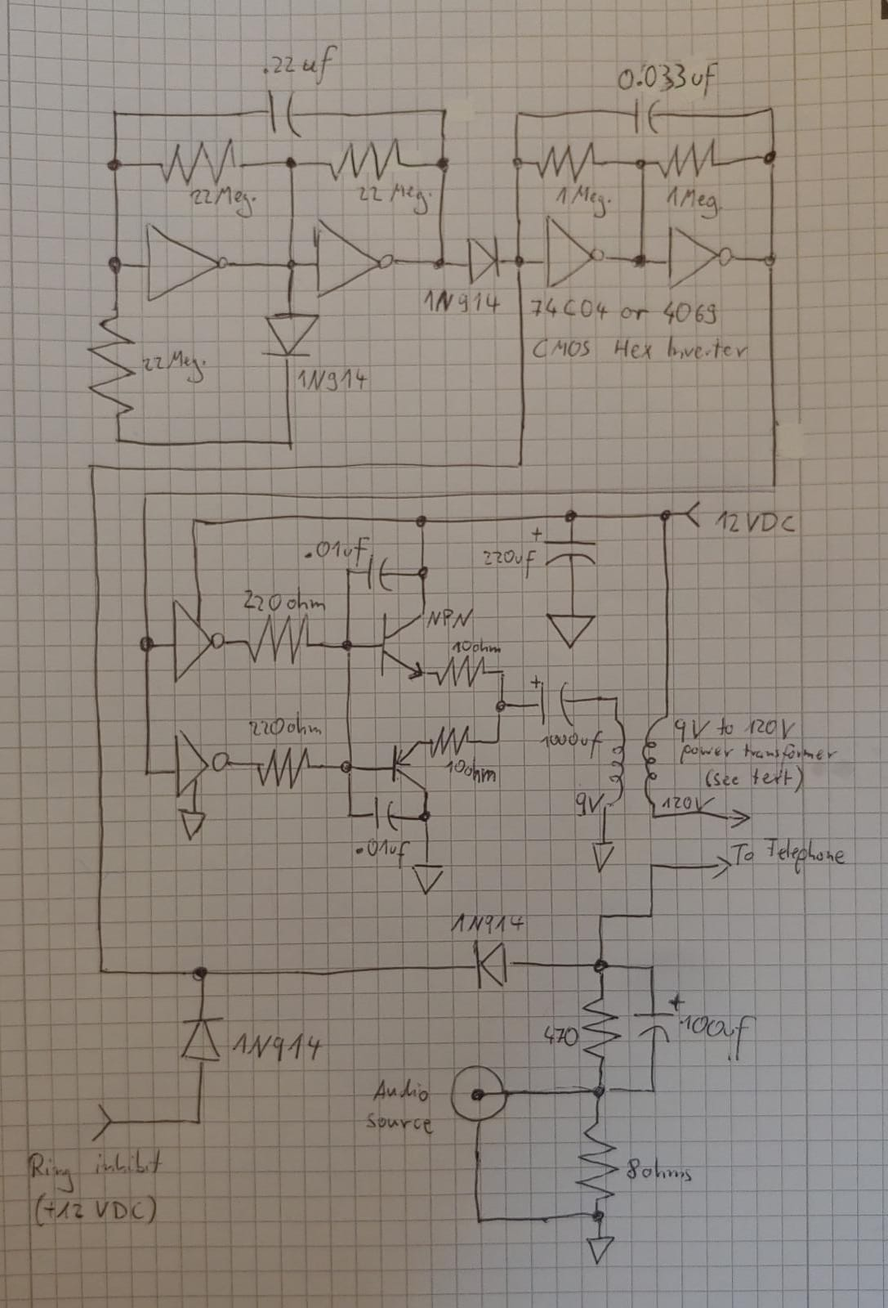capacitor.polarized: (529, 526, 600, 569), (632, 992, 687, 1045), (529, 674, 577, 728)
capacitor.unpolarized: (264, 87, 305, 141), (629, 95, 663, 137), (363, 553, 391, 593), (369, 796, 399, 833)
diode: (261, 311, 319, 363), (176, 1013, 227, 1064), (471, 938, 511, 991), (465, 233, 501, 284)
gnd: (543, 611, 599, 651), (177, 804, 209, 843), (411, 862, 445, 898), (584, 1234, 618, 1267), (589, 840, 617, 874)
inductor: (605, 714, 627, 809), (640, 719, 663, 804)
junction: (103, 250, 127, 277), (589, 1081, 612, 1103), (629, 251, 648, 271), (190, 964, 210, 983), (591, 956, 610, 975), (761, 148, 779, 168), (761, 250, 779, 270), (510, 251, 528, 270), (138, 634, 157, 652), (105, 157, 126, 173), (413, 513, 431, 531), (435, 155, 452, 174), (338, 758, 355, 775), (432, 254, 449, 271), (633, 155, 649, 173), (283, 155, 301, 171), (561, 508, 578, 524), (338, 637, 355, 653), (589, 1207, 605, 1224), (417, 809, 433, 825), (471, 1213, 487, 1228), (414, 565, 430, 580), (493, 697, 507, 714), (658, 508, 675, 522), (510, 154, 524, 169), (283, 256, 297, 271), (765, 481, 779, 495), (192, 1114, 205, 1128), (342, 564, 354, 579), (141, 765, 153, 779), (96, 965, 108, 978), (765, 103, 777, 116), (108, 107, 120, 120), (609, 692, 621, 705), (647, 1084, 659, 1096), (438, 105, 449, 117), (86, 460, 97, 472), (645, 909, 656, 921), (283, 439, 295, 450), (646, 860, 657, 871), (595, 911, 606, 922), (646, 961, 657, 972), (512, 108, 523, 119), (648, 811, 659, 822), (189, 516, 200, 527), (345, 809, 355, 820), (113, 435, 123, 446), (492, 736, 502, 746), (515, 460, 525, 470), (140, 489, 150, 499), (497, 667, 506, 677)
not: (145, 220, 234, 302), (310, 218, 398, 299), (540, 215, 609, 289), (664, 225, 737, 293), (170, 598, 225, 681), (172, 726, 232, 801)
resistor: (84, 311, 136, 418), (155, 137, 244, 186), (241, 615, 315, 665), (575, 1120, 619, 1202), (327, 137, 404, 182), (252, 744, 315, 791), (578, 995, 621, 1062), (532, 141, 599, 183), (656, 138, 720, 181), (426, 721, 475, 759), (435, 654, 489, 688)
terminal: (449, 1062, 509, 1125), (89, 1100, 115, 1142), (706, 853, 733, 880), (683, 499, 705, 531), (725, 807, 751, 831)
text: (24, 1146, 164, 1194), (531, 334, 752, 363), (529, 295, 719, 327), (676, 741, 839, 773), (31, 1190, 158, 1230), (730, 835, 846, 875), (616, 59, 719, 101), (678, 1010, 758, 1063), (672, 714, 797, 744), (260, 43, 339, 87), (230, 1029, 324, 1063), (702, 764, 806, 794), (355, 182, 432, 217), (239, 584, 328, 614), (186, 184, 258, 220), (141, 348, 210, 385), (420, 285, 502, 316), (300, 535, 373, 568), (712, 507, 797, 535), (247, 710, 324, 740), (663, 184, 725, 220), (538, 729, 606, 761), (624, 1155, 696, 1185), (294, 364, 368, 393), (554, 183, 613, 219), (478, 546, 538, 581), (353, 835, 410, 871), (449, 911, 526, 935), (370, 1076, 431, 1106), (364, 1111, 437, 1136), (443, 756, 497, 786), (426, 607, 475, 631), (448, 636, 502, 656), (659, 794, 717, 811), (542, 1024, 580, 1048), (573, 791, 602, 818)
transformer: (602, 712, 670, 808)
transistor.bjt: (377, 602, 429, 683), (388, 741, 428, 795)
